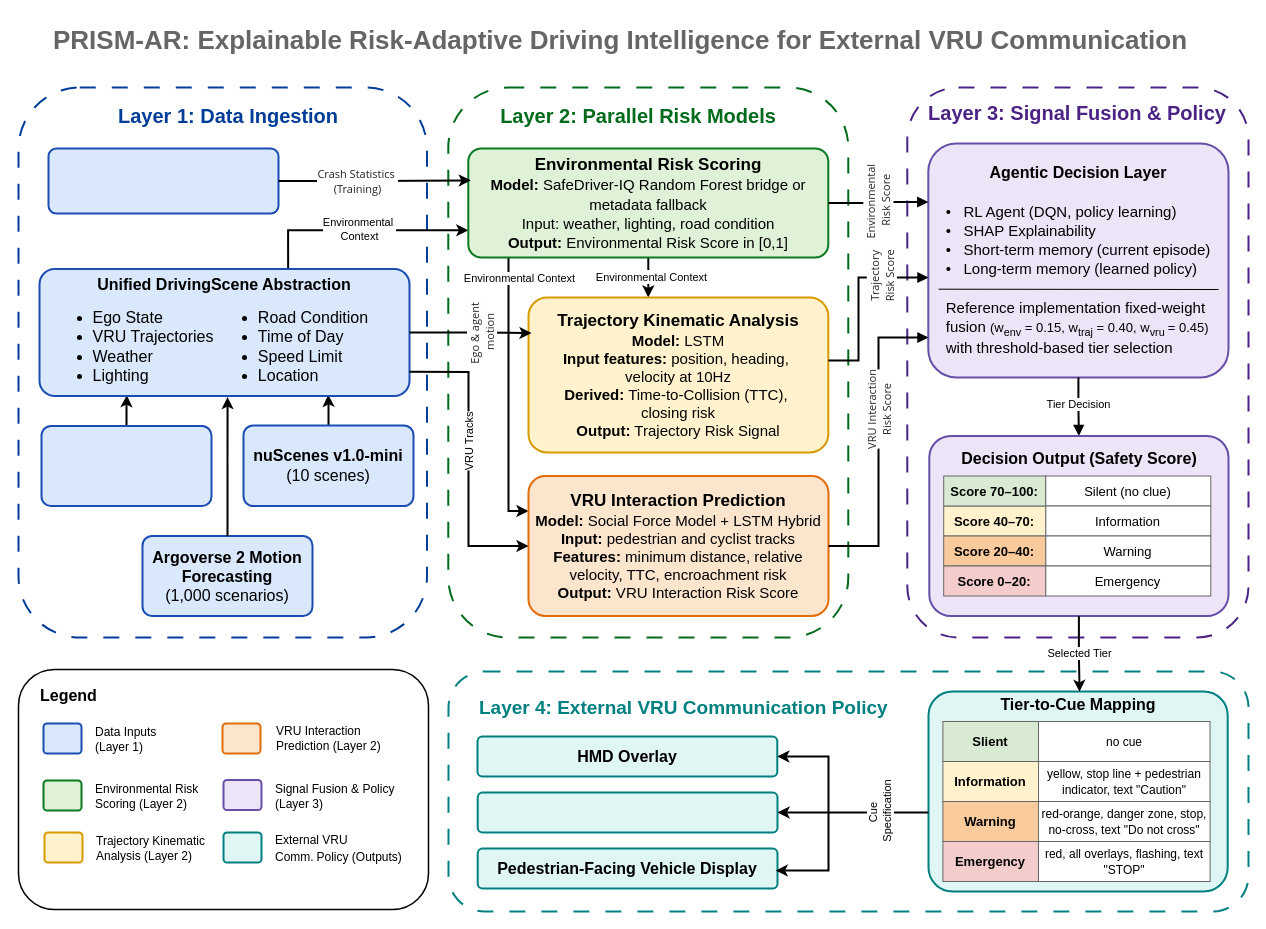
This 1266x929 diagram has some shape labels left out. The centre of each missing label's shape, as x and y in pixels:
NHTSA CRSS (2016–2023, 213,003 crash records): point (163, 180)
Projected Cue: point (627, 812)
Waymo WOMD (286 AV scenarios ): point (126, 465)
